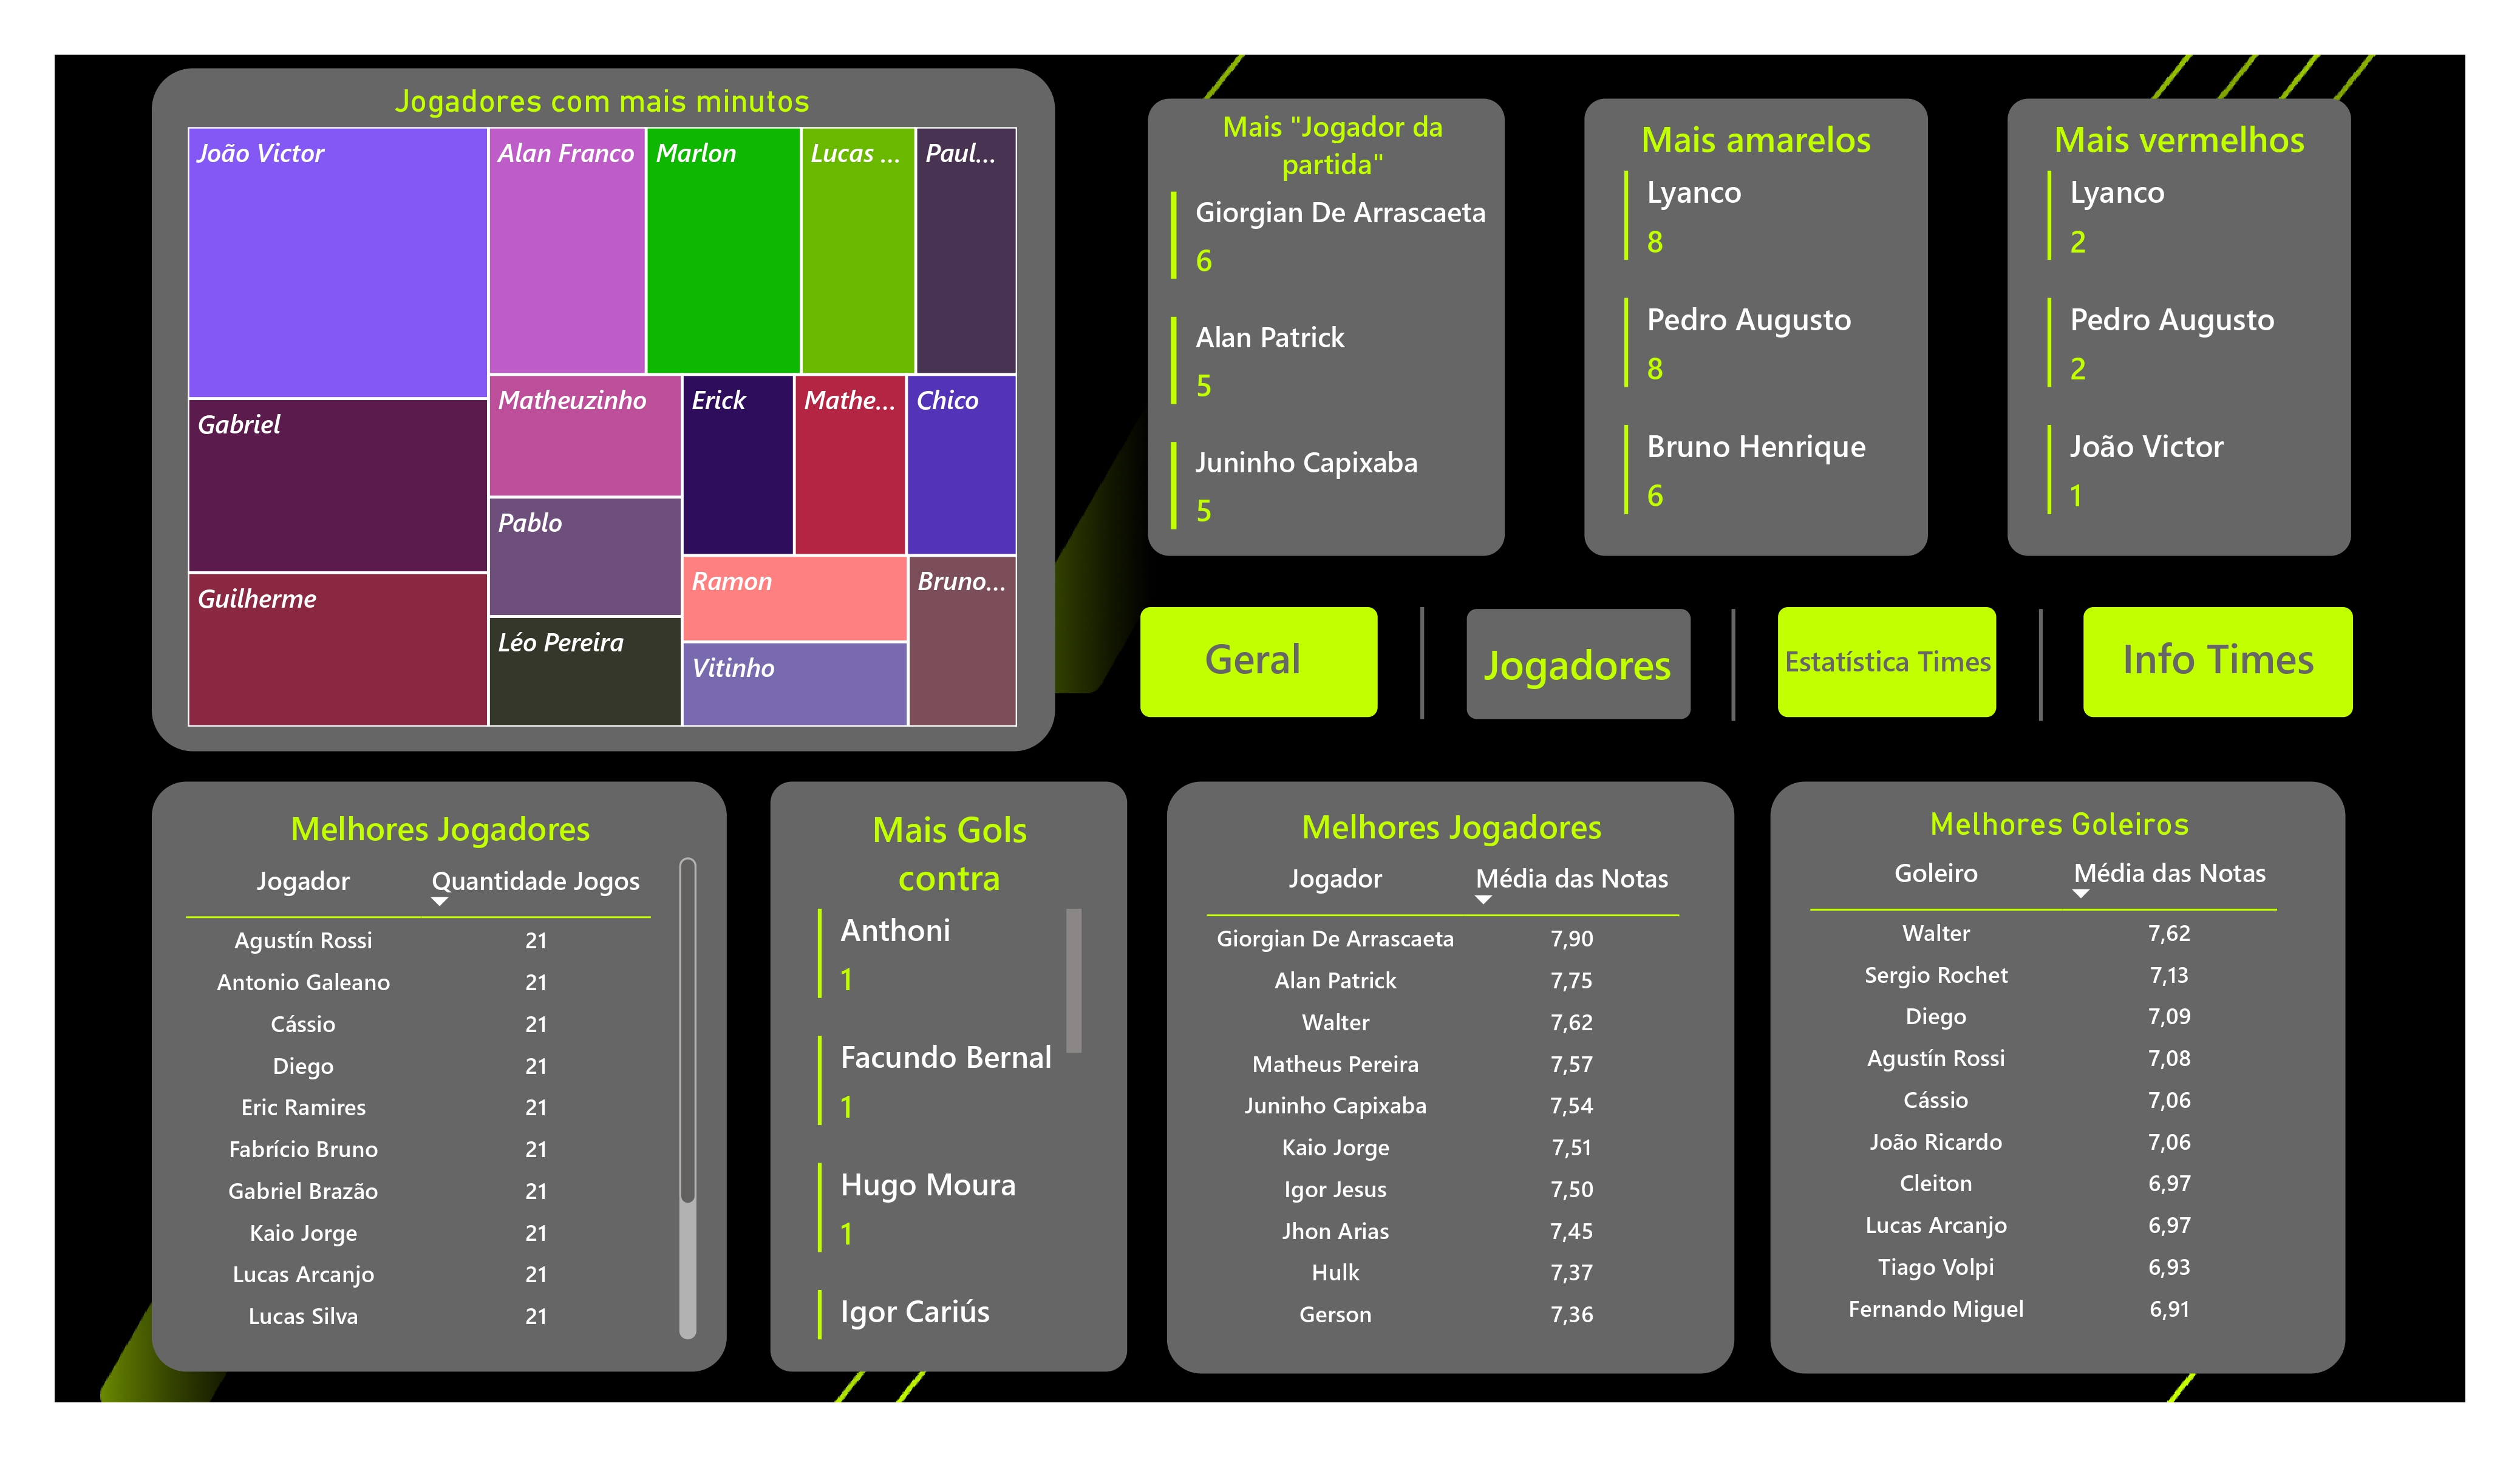

What the dashboard file says about the page in this screenshot:
{"tool":"powerbi","page":{"name":"Jogadores","canvas":[1280,720],"ordinal":4},"visuals":[{"type":"image","box":[0,0,1280,720],"z":0},{"type":"shape","box":[591.1,387.8,298.9,312.2],"z":1000},{"type":"tableEx","title":"Melhores Jogadores","fields":{"Values":["merged_players_2025.ogol_player_name","Avg(merged_players_2025.Média por jogo)"]},"box":[605.6,398.9,270,287.8],"z":2000},{"type":"shape","box":[908.9,387.8,303.3,312.2],"z":3000},{"type":"tableEx","title":"Melhores Goleiros","fields":{"Values":["merged_players_2025.ogol_player_name","Sum(merged_players_2025.Média por jogo)"]},"box":[924.4,400,274.4,282.2],"z":4000},{"type":"shape","box":[581,28,188,241],"z":5000},{"type":"multiRowCard","title":"Mais \"Jogador da partida\"","fields":{"Values":["Sum(merged_players_2025.Homem do Jogo)","merged_players_2025.ogol_player_name"]},"box":[588,32,181,247],"z":6000},{"type":"shape","box":[56,12,476,360],"z":7000},{"type":"treemap","title":"Jogadores com mais minutos","fields":{"Group":["merged_players_2025.ogol_player_name"],"Values":["merged_players_2025.Minutos_Total"]},"box":[70,19,447,345],"z":8000},{"type":"shape","box":[1034,28,181,241],"z":9000},{"type":"multiRowCard","title":"Mais vermelhos","fields":{"Values":["merged_players_2025.Red_Total","merged_players_2025.ogol_player_name"]},"box":[1050,36,149,243],"z":10000},{"type":"shape","box":[811,28,181,241],"z":11000},{"type":"multiRowCard","title":"Mais amarelos","fields":{"Values":["merged_players_2025.Yellow_Total","merged_players_2025.ogol_player_name"]},"box":[827,36,149,243],"z":12000},{"type":"shape","box":[56,388,303,311],"z":13000},{"type":"tableEx","title":"Melhores Jogadores","fields":{"Values":["merged_players_2025.ogol_player_name","Sum(merged_players_2025.Jogos)"]},"box":[68,400,280,287],"z":14000},{"type":"shape","box":[382.2,387.8,187.8,311.1],"z":15000},{"type":"multiRowCard","title":"Mais Gols contra","fields":{"Values":["merged_players_2025.ogol_player_name","Sum(merged_players_2025.Gols Contra)"]},"box":[402.2,400,148.9,286.7],"z":16000},{"type":"shape","box":[577,296,125,58],"z":17000},{"type":"shape","box":[913,296,115,58],"z":18000},{"type":"shape","box":[749,297,118,58],"z":19000},{"type":"textbox","box":[606,303,69,47],"z":20000},{"type":"textbox","box":[753,306,110,42],"z":21000},{"type":"textbox","box":[876,309,190,35],"z":22000},{"type":"shape","box":[1028,297,47,59],"z":23000},{"type":"shape","box":[702,296,47,59],"z":24000},{"type":"shape","box":[1074,296,142,58],"z":25000},{"type":"textbox","box":[1050,303,190,41],"z":26000},{"type":"shape","box":[866,297,47,59],"z":27000}]}

Visuals, with their boxes on the page's 1280x720 design canvas (x1, y1, x2, y2). These are canvas units, not pixel positions in the 2520x1457 screenshot, which may show the page scaled, cropped or inside an application window:
image: left=0, top=0, right=1280, bottom=720
shape: left=591, top=388, right=890, bottom=700
"Melhores Jogadores" tableEx: left=606, top=399, right=876, bottom=687
shape: left=909, top=388, right=1212, bottom=700
"Melhores Goleiros" tableEx: left=924, top=400, right=1199, bottom=682
shape: left=581, top=28, right=769, bottom=269
"Mais "Jogador da partida"" multiRowCard: left=588, top=32, right=769, bottom=279
shape: left=56, top=12, right=532, bottom=372
"Jogadores com mais minutos" treemap: left=70, top=19, right=517, bottom=364
shape: left=1034, top=28, right=1215, bottom=269
"Mais vermelhos" multiRowCard: left=1050, top=36, right=1199, bottom=279
shape: left=811, top=28, right=992, bottom=269
"Mais amarelos" multiRowCard: left=827, top=36, right=976, bottom=279
shape: left=56, top=388, right=359, bottom=699
"Melhores Jogadores" tableEx: left=68, top=400, right=348, bottom=687
shape: left=382, top=388, right=570, bottom=699
"Mais Gols contra" multiRowCard: left=402, top=400, right=551, bottom=687
shape: left=577, top=296, right=702, bottom=354
shape: left=913, top=296, right=1028, bottom=354
shape: left=749, top=297, right=867, bottom=355
textbox: left=606, top=303, right=675, bottom=350
textbox: left=753, top=306, right=863, bottom=348
textbox: left=876, top=309, right=1066, bottom=344
shape: left=1028, top=297, right=1075, bottom=356
shape: left=702, top=296, right=749, bottom=355
shape: left=1074, top=296, right=1216, bottom=354
textbox: left=1050, top=303, right=1240, bottom=344
shape: left=866, top=297, right=913, bottom=356
